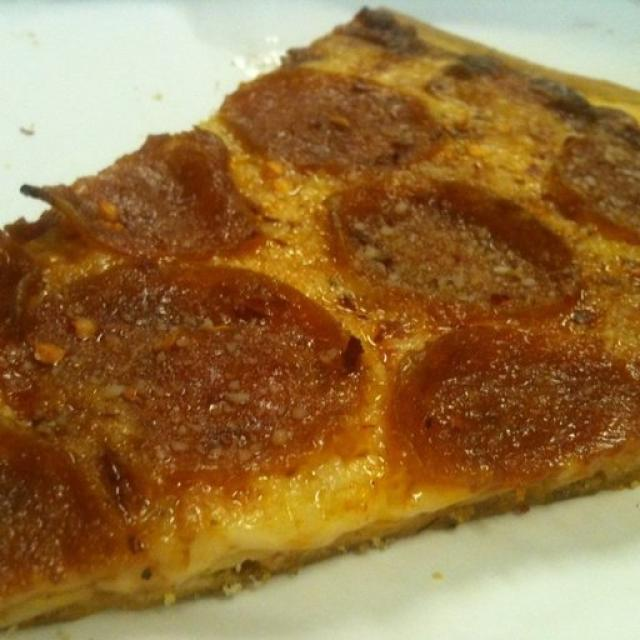Pepperoni: (0, 268, 364, 468), (400, 330, 639, 484), (326, 179, 580, 322), (23, 127, 255, 256), (0, 425, 121, 612), (229, 65, 446, 166), (547, 135, 640, 244)
Pizza: (0, 10, 640, 626)
